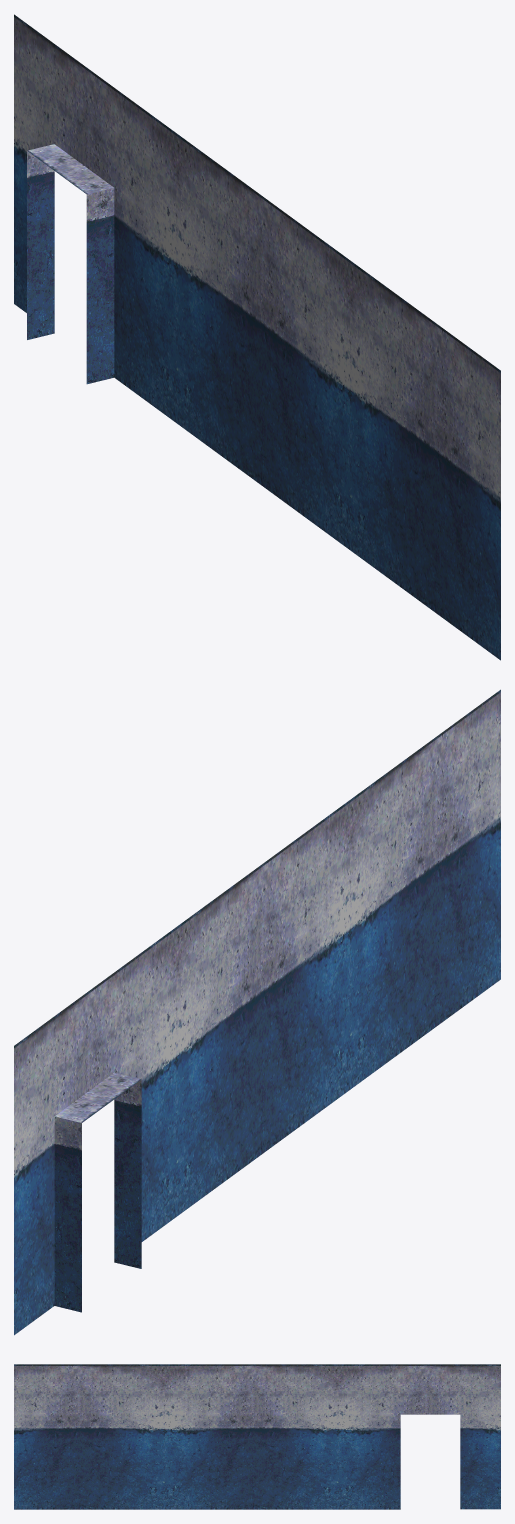
File: wall_left.fbx
3 views of the same model, one above another, from view 1: azimuth 30°, elevation 25°; view 2: azimuth 150°, elevation 25°; view 3: azimuth 270°, elevation 25° (orthographic). The views are drawn at different scales.
Visible parts, largest first — view 1: Cube; view 2: Cube; view 3: Cube.
Part boxes in pixels (<box>): Cube: <box>14,14,500,660</box>; Cube: <box>14,689,500,1335</box>; Cube: <box>14,1364,500,1509</box>.
Size of the model in its own units: 40 by 403 by 1227.
